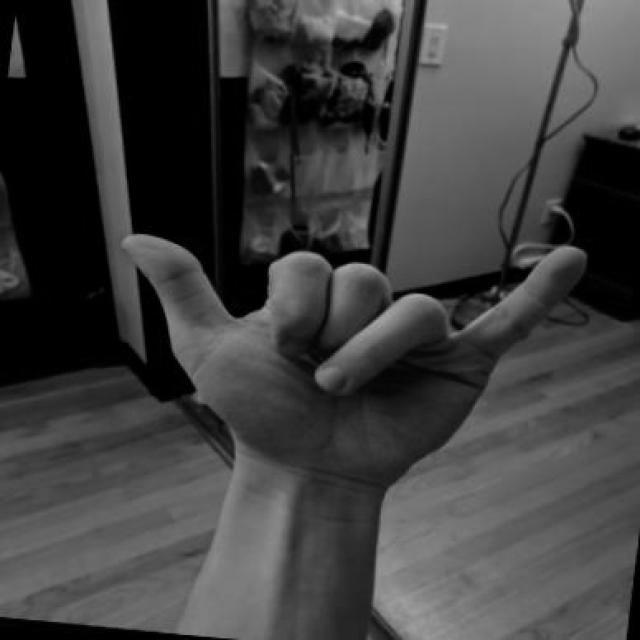Y: (91, 198, 597, 498)
